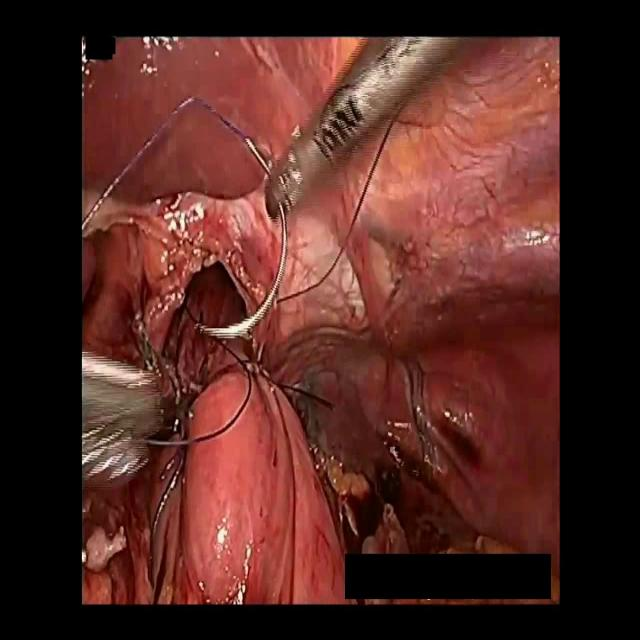surgical-area: (81, 34, 560, 604)
surgical-tool: (260, 36, 469, 222)
